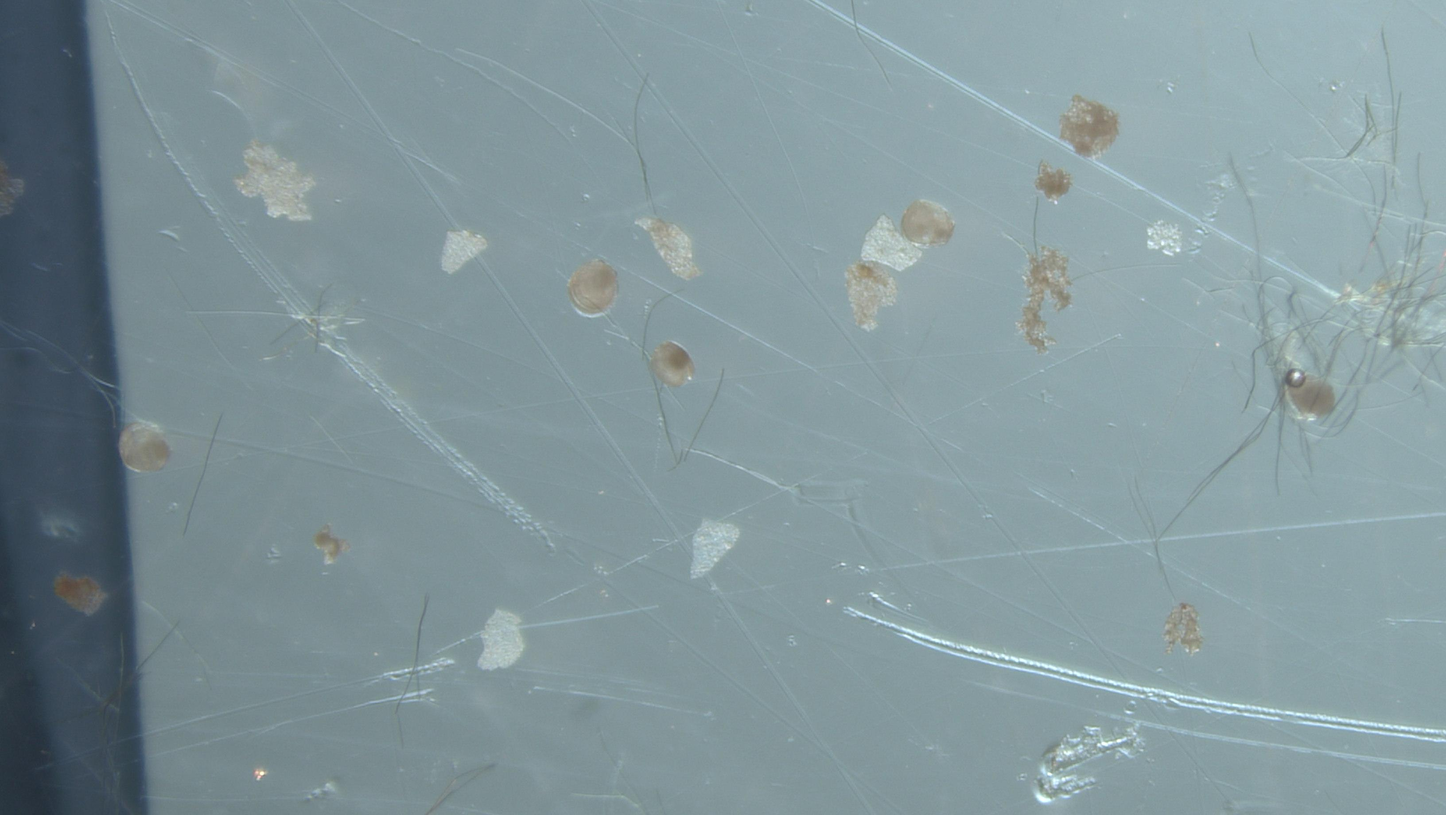live: (1283, 368, 1336, 420), (568, 260, 618, 315), (119, 422, 170, 472), (902, 200, 955, 246), (651, 341, 694, 387)
